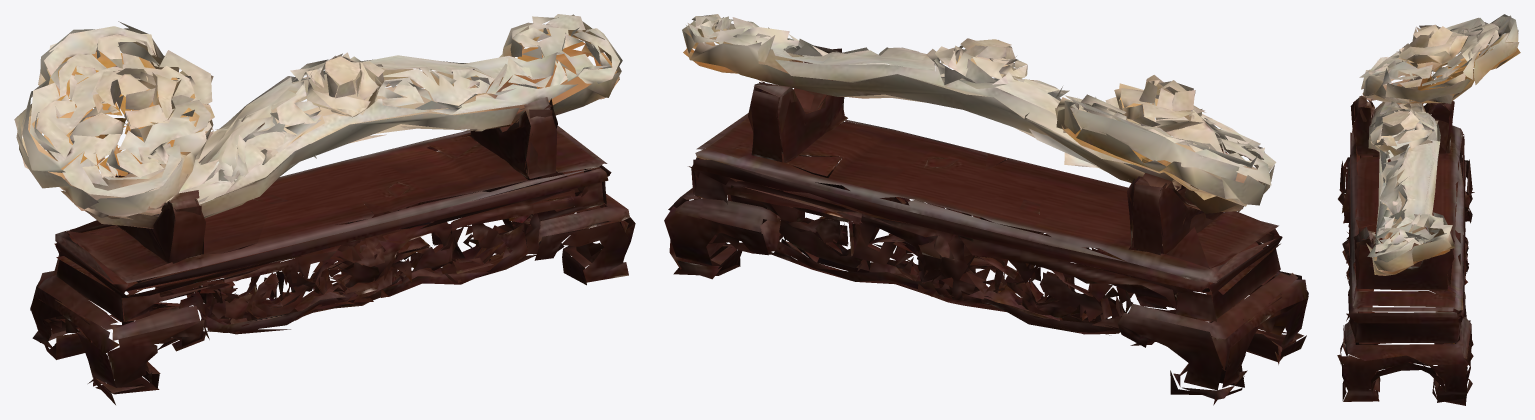
File: B7-ruyi.glb
3 renders of one model, left to right at view 1: azimuth 30°, elevation 25°; view 2: azimuth 150°, elevation 25°; view 3: azimuth 270°, elevation 25°, orthographic. The views are drawn at different scales.
Parts seen in each view (by area): view 1: Prop_B7; view 2: Prop_B7; view 3: Prop_B7.
Part boxes in pixels (x1,y1,x2,y2): Prop_B7: (14,14,635,404); Prop_B7: (664,14,1308,405); Prop_B7: (1337,14,1520,405).
Size of the model in its own units: 1.01 by 0.4846 by 0.3663.
Materials: 1 (1 with a texture image).
